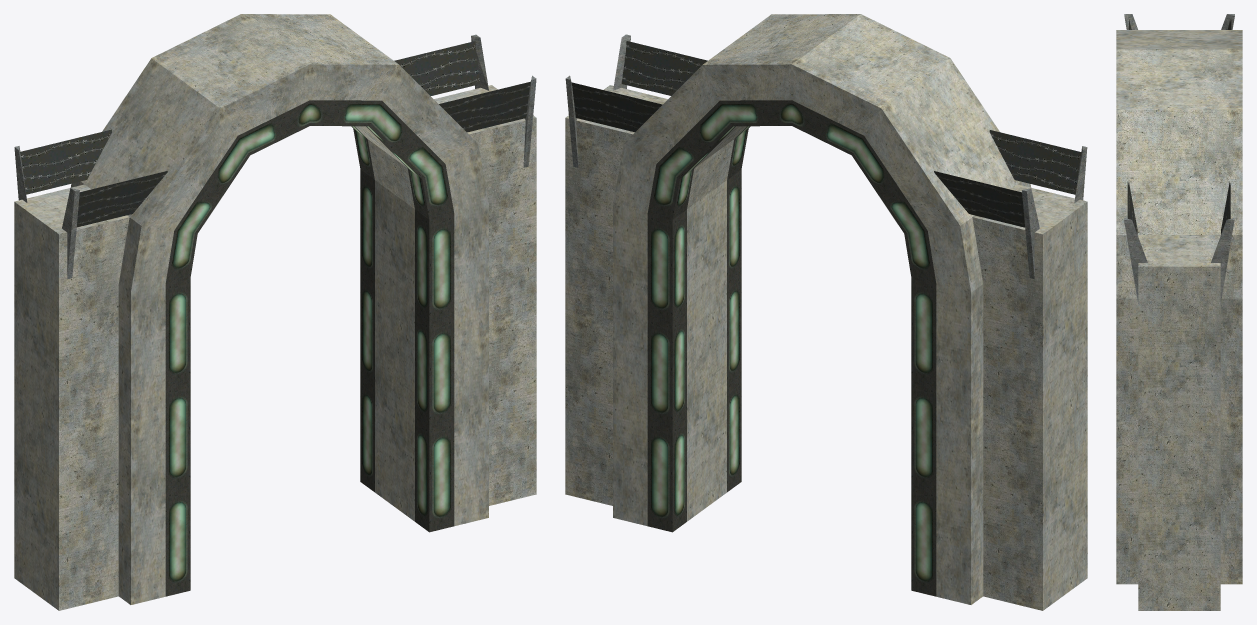
File: thm_corl_imprv_gate_sm_s04_l1.fbx
3 renders of one model, left to right at view 1: azimuth 30°, elevation 25°; view 2: azimuth 150°, elevation 25°; view 3: azimuth 270°, elevation 25°, orthographic. The views are drawn at different scales.
Visible parts, largest first — view 1: mesh_node; view 2: mesh_node; view 3: mesh_node.
Boxes of the visible parts, box(x1,y1,x2,y2) form: mesh_node: box(14, 14, 536, 610); mesh_node: box(565, 14, 1087, 610); mesh_node: box(1116, 14, 1242, 610).
Bounding box in the file's own units: 8 × 7.95 × 2.
